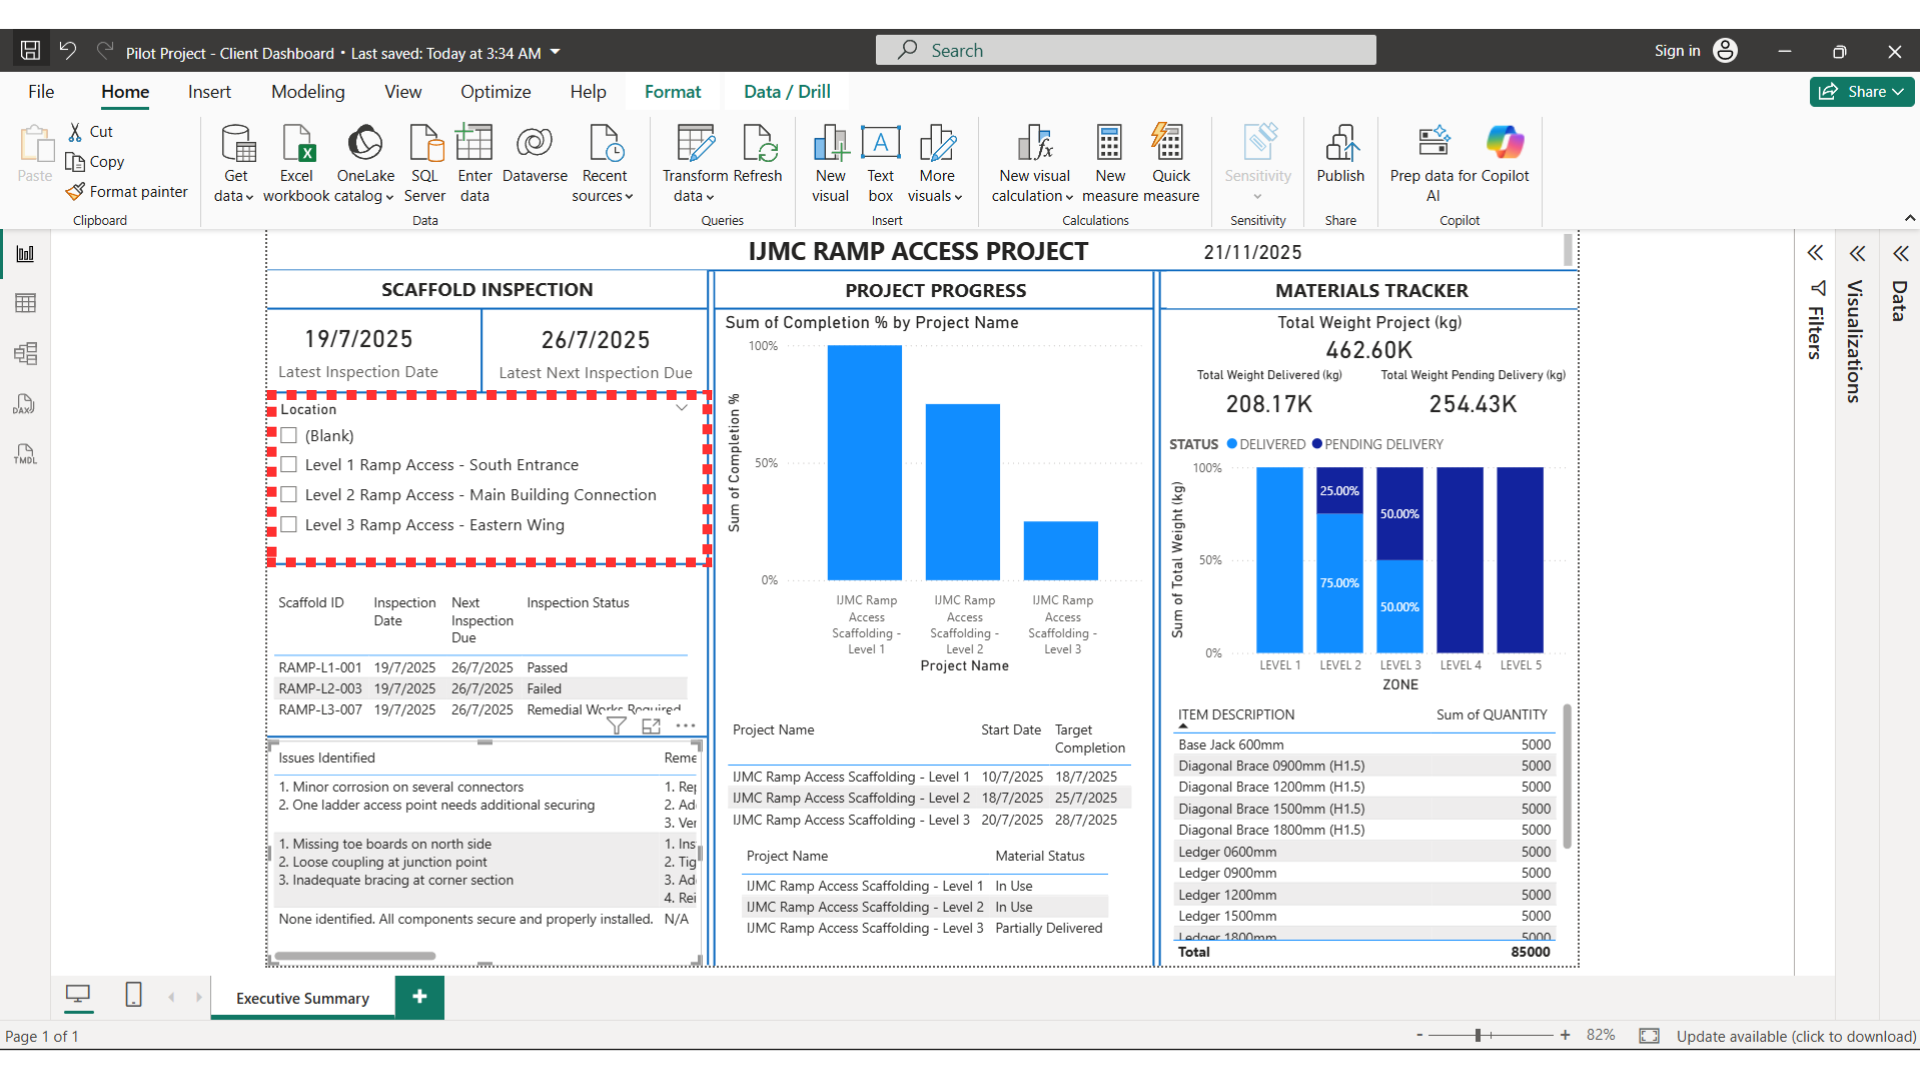

The page's visual inventory and layout, read from the dashboard file:
{"tool":"powerbi","page":{"name":"Executive Summary","canvas":[1280,720],"ordinal":0},"visuals":[{"type":"textbox","box":[0,0,1280.3,41.6],"z":0},{"type":"shape","box":[0,34,1280,12.6],"z":1000},{"type":"textbox","box":[0,40.9,430.9,37],"z":2000},{"type":"shape","box":[424.1,40.9,12.6,678.9],"z":3000},{"type":"tableEx","fields":{"Values":["Scaffold Inspection Database.Scaffold ID","Scaffold Inspection Database.Inspection Date","Scaffold Inspection Database.Next Inspection Due","Scaffold Inspection Database.Inspection Status"]},"box":[0,348.2,424.1,144.9],"z":4000},{"type":"card","fields":{"Values":["Max(Scaffold Inspection Database.Inspection Date)"]},"box":[0,74.7,178.7,84.5],"z":5000},{"type":"card","fields":{"Values":["Scaffold Inspection Database.Todays Date"]},"box":[905.3,7.6,117,31.4],"z":6000},{"type":"slicer","fields":{"Values":["Scaffold Inspection Database.Location"]},"box":[0,162.4,424.1,161.5],"z":7000},{"type":"shape","box":[0,323.9,429.9,6.8],"z":8000},{"type":"shape","box":[0,74.7,429.9,6.5],"z":9000},{"type":"tableEx","fields":{"Values":["Scaffold Inspection Database.Issues Identified","Scaffold Inspection Database.Remedial Actions","Scaffold Inspection Database.Notes"]},"box":[0,499.9,424.1,219.8],"z":10000},{"type":"shape","box":[0,155.9,429.9,6.5],"z":11000},{"type":"shape","box":[0,493.1,429.9,6.8],"z":12000},{"type":"shape","box":[429.9,41.2,13,679],"z":13000},{"type":"card","fields":{"Values":["Max(Scaffold Inspection Database.Next Inspection Due)"]},"box":[215.5,81.2,212.3,74.7],"z":14000},{"type":"shape","box":[202.5,78,13,81.2],"z":15000},{"type":"textbox","box":[437.5,41.2,431,36.8],"z":16000},{"type":"shape","box":[859.8,41.2,13,679],"z":17000},{"type":"shape","box":[436.4,74.7,429.9,6.5],"z":18000},{"type":"columnChart","fields":{"Category":["TESS Project Progress Tracker.Project Name"],"Y":["Sum(TESS Project Progress Tracker.Completion %)"]},"box":[442.9,81.2,416.9,359.5],"z":19000},{"type":"tableEx","fields":{"Values":["TESS Project Progress Tracker.Project Name","TESS Project Progress Tracker.Start Date","TESS Project Progress Tracker.Target Completion"]},"box":[444,473.2,416.9,123.5],"z":20000},{"type":"tableEx","fields":{"Values":["TESS Project Progress Tracker.Project Name","TESS Project Progress Tracker.Material Status"]},"box":[457,596.7,390.9,123.5],"z":21000},{"type":"shape","box":[866.3,41.2,13,679],"z":22000},{"type":"shape","box":[872.8,74.7,407.2,6.5],"z":23000},{"type":"textbox","box":[879.3,41.2,400.7,35.7],"z":24000},{"type":"card","title":"Total Weight Project (kg)","fields":{"Values":["TESS Project Progress Tracker.Total Weight Project (kg)"]},"box":[934.6,81.2,285.9,54.1],"z":25000},{"type":"card","title":"Total Weight Delivered (kg)","fields":{"Values":["Sum(IJMC Materials Tracker.Total Weight (kg))"]},"box":[879.3,135.4,200.3,54.1],"z":26000},{"type":"card","title":"Total Weight Pending Delivery (kg)","fields":{"Values":["Sum(IJMC Materials Tracker.Total Weight (kg))"]},"box":[1077.5,135.4,202.5,54.1],"z":27000},{"type":"hundredPercentStackedColumnChart","fields":{"Category":["IJMC Materials Tracker.ZONE"],"Y":["Sum(IJMC Materials Tracker.Total Weight (kg))"],"Series":["IJMC Materials Tracker.STATUS"]},"box":[877.2,189.5,400.7,268.6],"z":28000},{"type":"tableEx","fields":{"Values":["IJMC Materials Tracker.ITEM DESCRIPTION","Sum(IJMC Materials Tracker.QUANTITY)"]},"box":[879.3,458.1,400.7,262.1],"z":29000}]}

Visuals, with their boxes on the page's 1280x720 design canvas (x1, y1, x2, y2). These are canvas units, not pixel positions in the 1920x1080 screenshot, which may show the page scaled, cropped or inside an application window:
textbox: {"left": 0, "top": 0, "right": 1280, "bottom": 42}
shape: {"left": 0, "top": 34, "right": 1280, "bottom": 47}
textbox: {"left": 0, "top": 41, "right": 431, "bottom": 78}
shape: {"left": 424, "top": 41, "right": 437, "bottom": 720}
tableEx - Scaffold Inspection Database.Scaffold ID x Scaffold Inspection Database.Inspection Date: {"left": 0, "top": 348, "right": 424, "bottom": 493}
card - Max(Scaffold Inspection Database.Inspection Date): {"left": 0, "top": 75, "right": 179, "bottom": 159}
card - Scaffold Inspection Database.Todays Date: {"left": 905, "top": 8, "right": 1022, "bottom": 39}
slicer - Scaffold Inspection Database.Location: {"left": 0, "top": 162, "right": 424, "bottom": 324}
shape: {"left": 0, "top": 324, "right": 430, "bottom": 331}
shape: {"left": 0, "top": 75, "right": 430, "bottom": 81}
tableEx - Scaffold Inspection Database.Issues Identified x Scaffold Inspection Database.Remedial Actions: {"left": 0, "top": 500, "right": 424, "bottom": 720}
shape: {"left": 0, "top": 156, "right": 430, "bottom": 162}
shape: {"left": 0, "top": 493, "right": 430, "bottom": 500}
shape: {"left": 430, "top": 41, "right": 443, "bottom": 720}
card - Max(Scaffold Inspection Database.Next Inspection Due): {"left": 216, "top": 81, "right": 428, "bottom": 156}
shape: {"left": 202, "top": 78, "right": 216, "bottom": 159}
textbox: {"left": 438, "top": 41, "right": 868, "bottom": 78}
shape: {"left": 860, "top": 41, "right": 873, "bottom": 720}
shape: {"left": 436, "top": 75, "right": 866, "bottom": 81}
columnChart - TESS Project Progress Tracker.Project Name x Sum(TESS Project Progress Tracker.Completion %): {"left": 443, "top": 81, "right": 860, "bottom": 441}
tableEx - TESS Project Progress Tracker.Project Name x TESS Project Progress Tracker.Start Date: {"left": 444, "top": 473, "right": 861, "bottom": 597}
tableEx - TESS Project Progress Tracker.Project Name x TESS Project Progress Tracker.Material Status: {"left": 457, "top": 597, "right": 848, "bottom": 720}
shape: {"left": 866, "top": 41, "right": 879, "bottom": 720}
shape: {"left": 873, "top": 75, "right": 1280, "bottom": 81}
textbox: {"left": 879, "top": 41, "right": 1280, "bottom": 77}
"Total Weight Project (kg)" card: {"left": 935, "top": 81, "right": 1220, "bottom": 135}
"Total Weight Delivered (kg)" card: {"left": 879, "top": 135, "right": 1080, "bottom": 190}
"Total Weight Pending Delivery (kg)" card: {"left": 1078, "top": 135, "right": 1280, "bottom": 190}
hundredPercentStackedColumnChart - IJMC Materials Tracker.ZONE x Sum(IJMC Materials Tracker.Total Weight (kg)): {"left": 877, "top": 190, "right": 1278, "bottom": 458}
tableEx - IJMC Materials Tracker.ITEM DESCRIPTION x Sum(IJMC Materials Tracker.QUANTITY): {"left": 879, "top": 458, "right": 1280, "bottom": 720}
